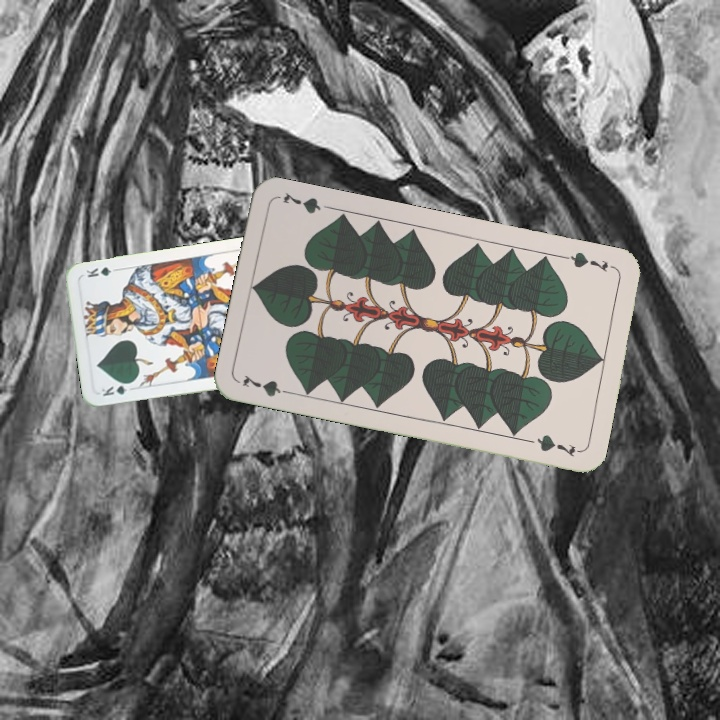G7: (238, 370, 296, 400), (560, 247, 611, 274)
GK: (97, 378, 136, 399)
